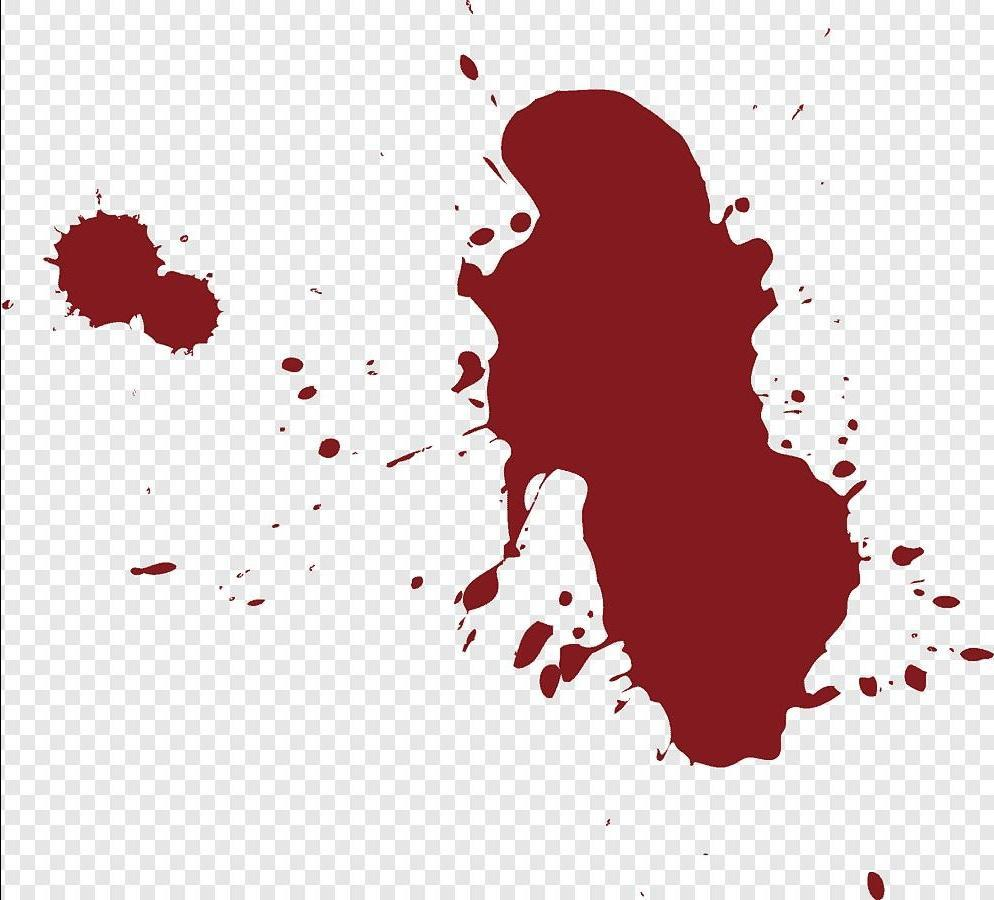Fire: (453, 89, 871, 768), (42, 209, 224, 356)
